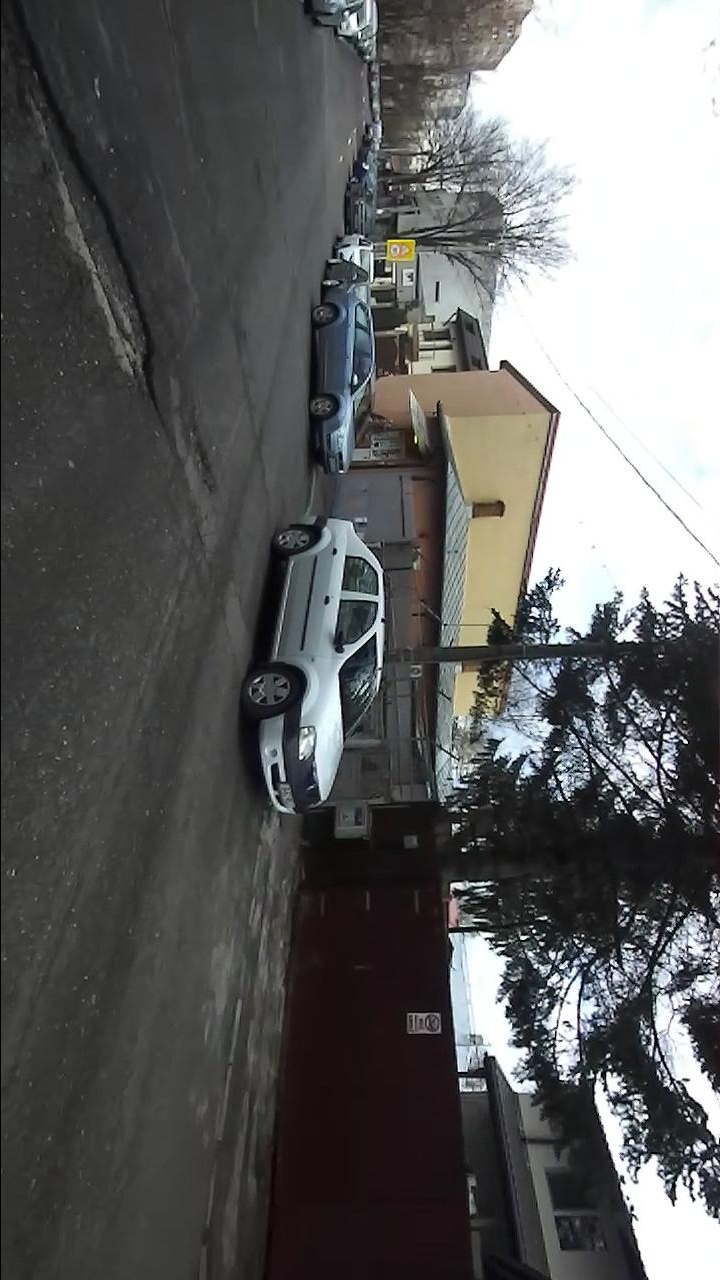pothole: (2, 0, 169, 433), (184, 403, 221, 503)
